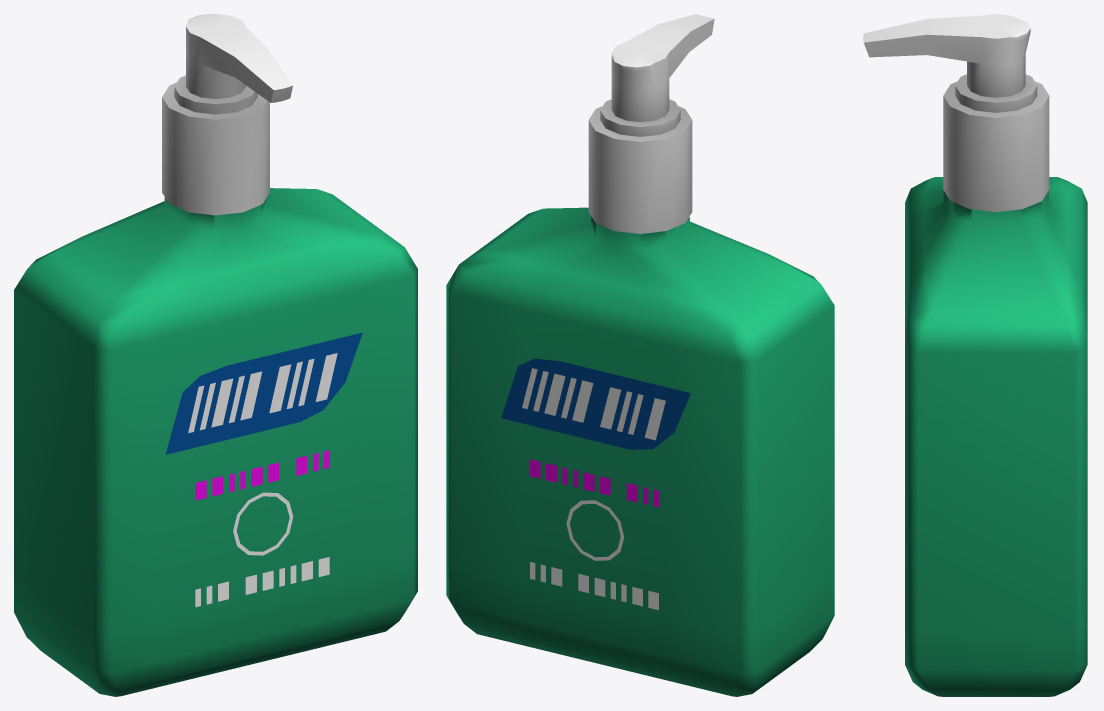
3 renders of one model, left to right at view 1: azimuth 30°, elevation 25°; view 2: azimuth 150°, elevation 25°; view 3: azimuth 270°, elevation 25°, orthographic. The views are drawn at different scales.
Visible parts, largest first — view 1: base.443; view 2: base.443; view 3: base.443.
Boxes of the visible parts, <box> form: base.443: <box>14,14,417,696</box>; base.443: <box>446,14,834,696</box>; base.443: <box>863,14,1087,696</box>.
Size of the model in its own units: 0.2739 by 0.5 by 0.1686.
